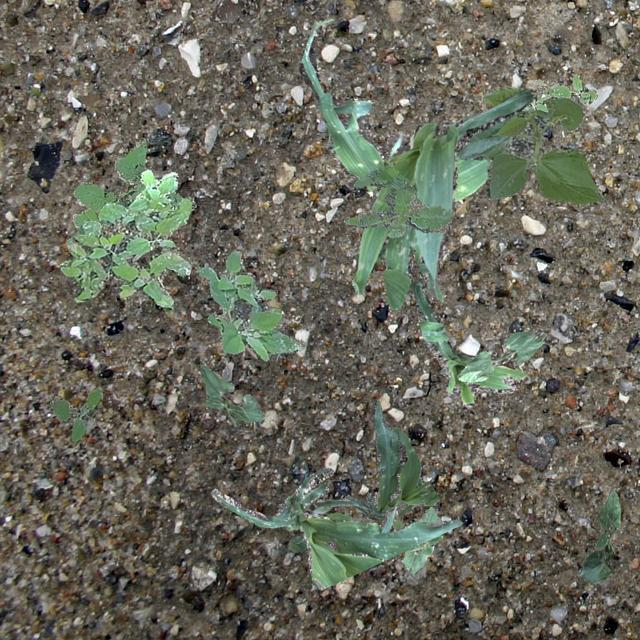crop: (350, 89, 532, 308), (297, 18, 488, 200), (209, 468, 462, 588), (454, 86, 604, 204), (316, 398, 438, 528), (412, 278, 526, 407), (456, 328, 546, 381), (198, 364, 264, 426), (578, 489, 620, 582), (404, 506, 442, 572)
weed: (58, 168, 194, 310), (198, 248, 304, 359), (72, 136, 182, 230), (342, 160, 453, 237), (283, 496, 350, 550), (520, 72, 596, 111), (48, 386, 102, 440)
